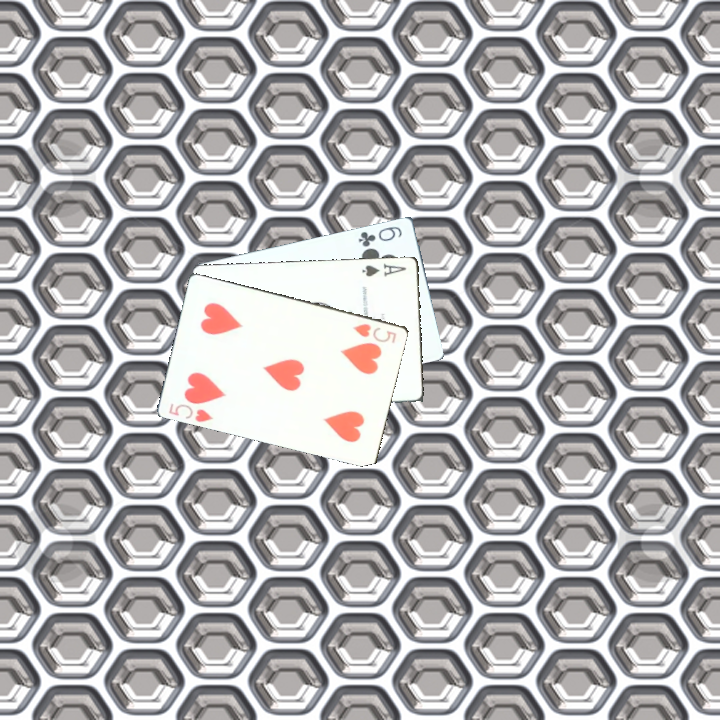5h: (348, 319, 399, 346), (165, 399, 216, 424)
6c: (354, 222, 404, 249)
As: (358, 260, 408, 279)
